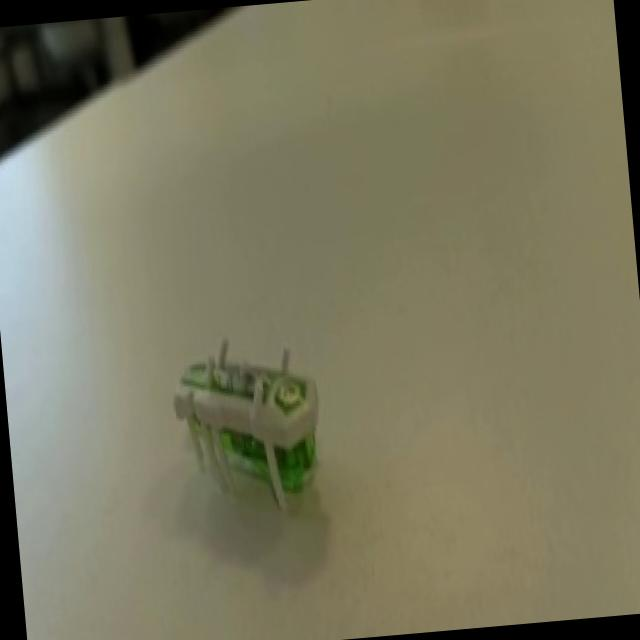4_NanoBug_Blanco: (140, 300, 359, 552)
